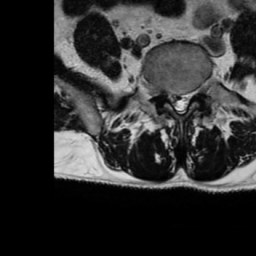CCS_normal: (176, 84, 183, 119)
LFS_stenosis: (190, 81, 197, 102)
LLS_normal: (183, 83, 190, 116)
RFS_stenosis: (160, 81, 169, 104)
RLS_normal: (169, 82, 176, 115)
